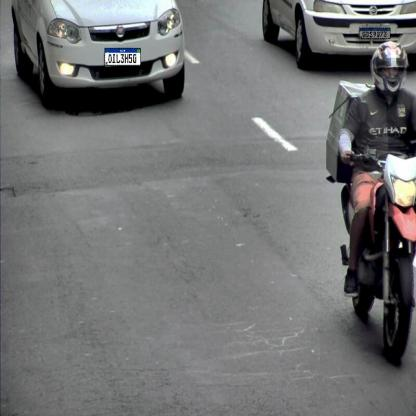PlacaM: (104, 48, 141, 66), (360, 28, 390, 39)
